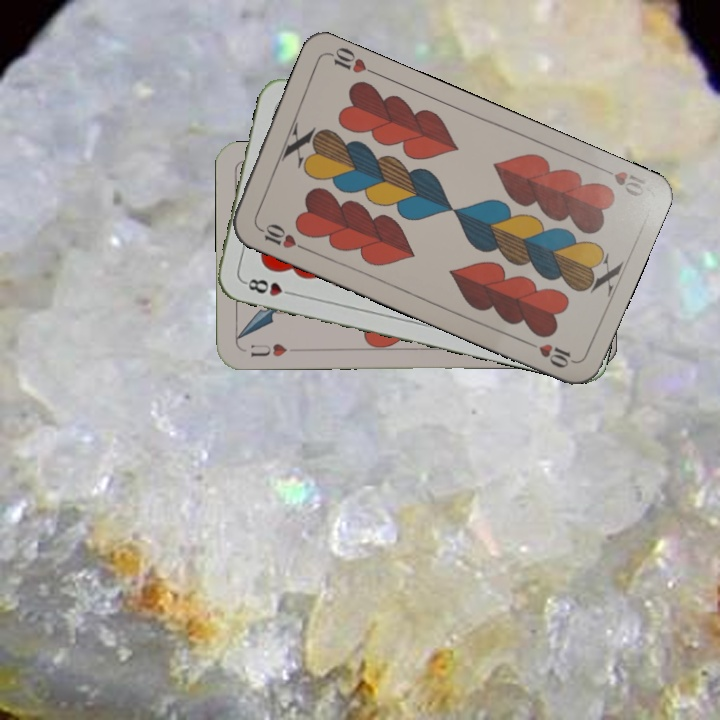H10: (593, 162, 649, 199), (252, 219, 308, 253)
H8: (240, 274, 298, 299)
HU: (247, 339, 290, 359)
